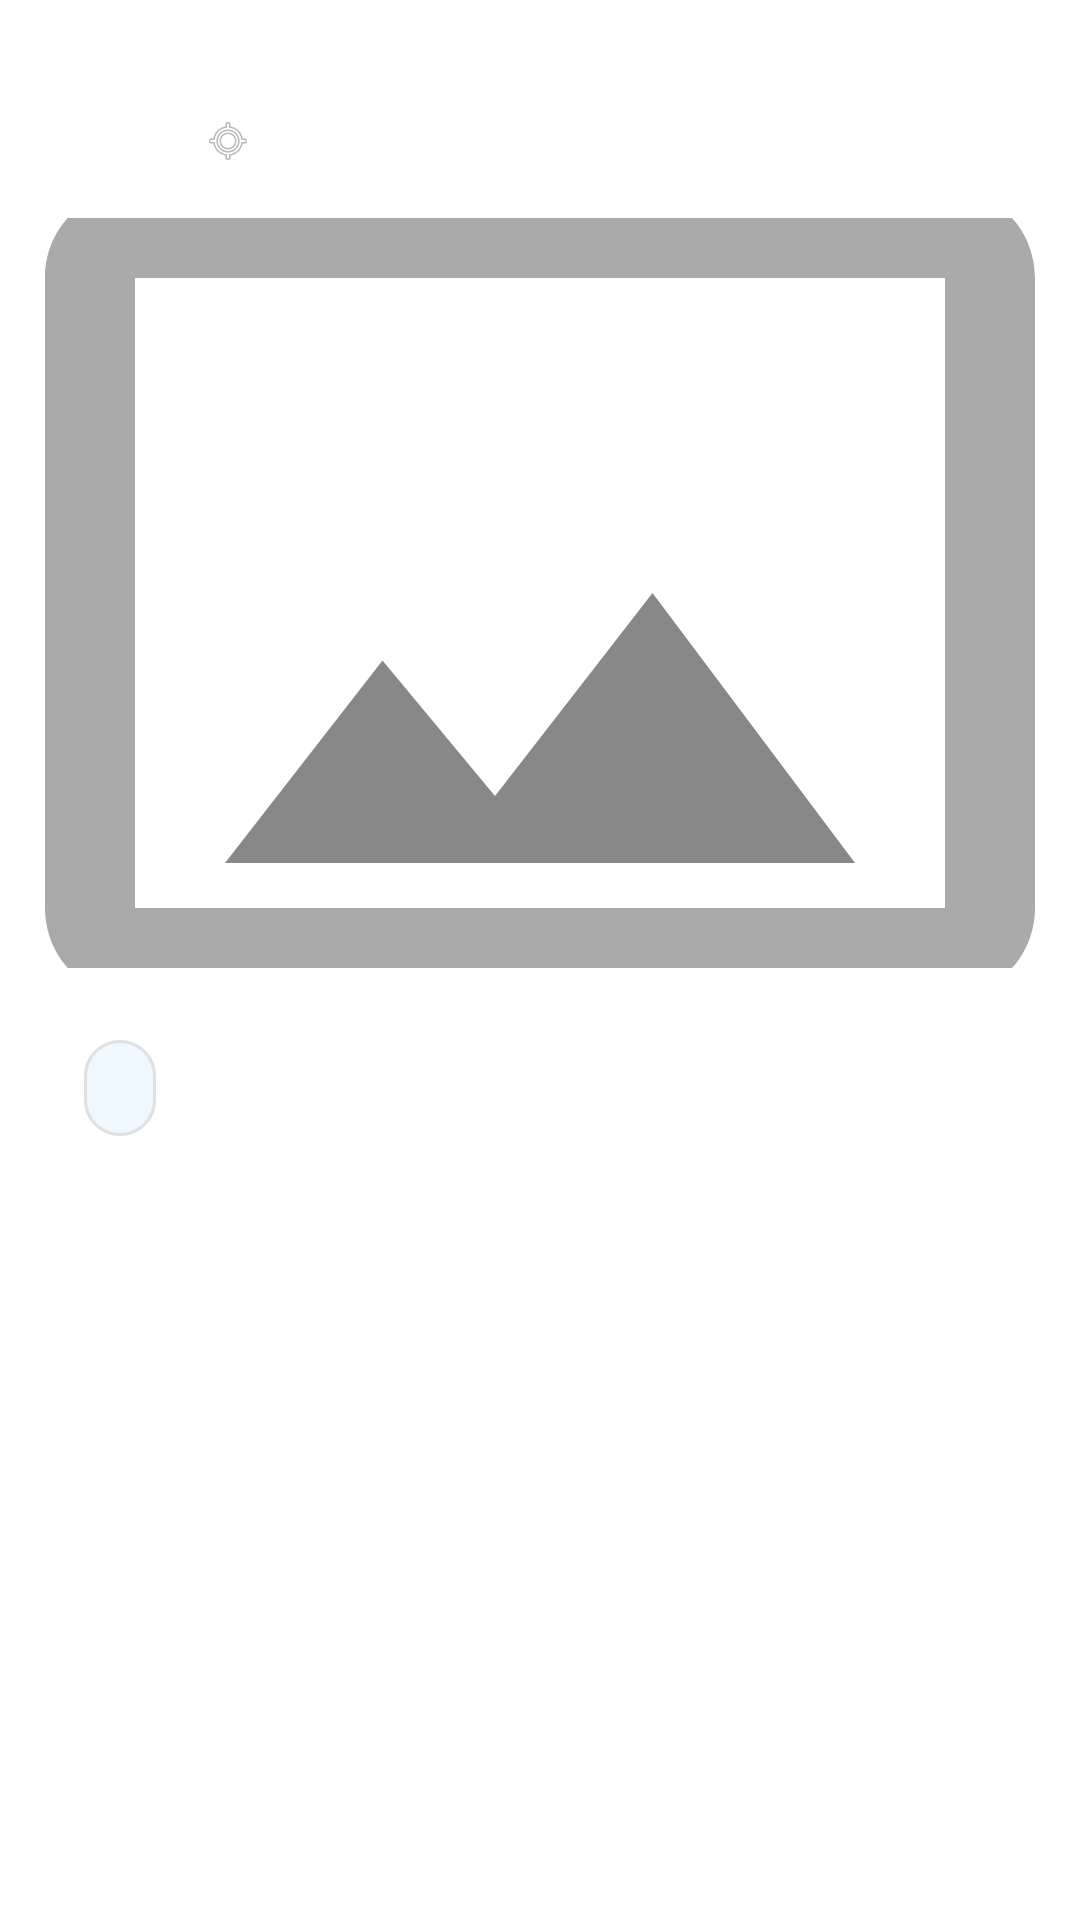

Named icons in this screenshot (1080×1920) and their centers, (x=x, y=y):
mylocation: (x=228, y=141)
